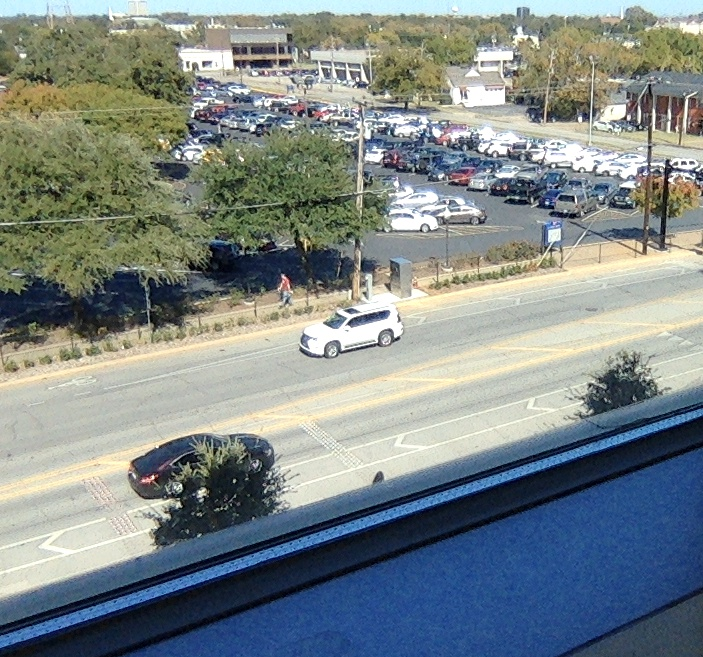car: (300, 300, 403, 357)
